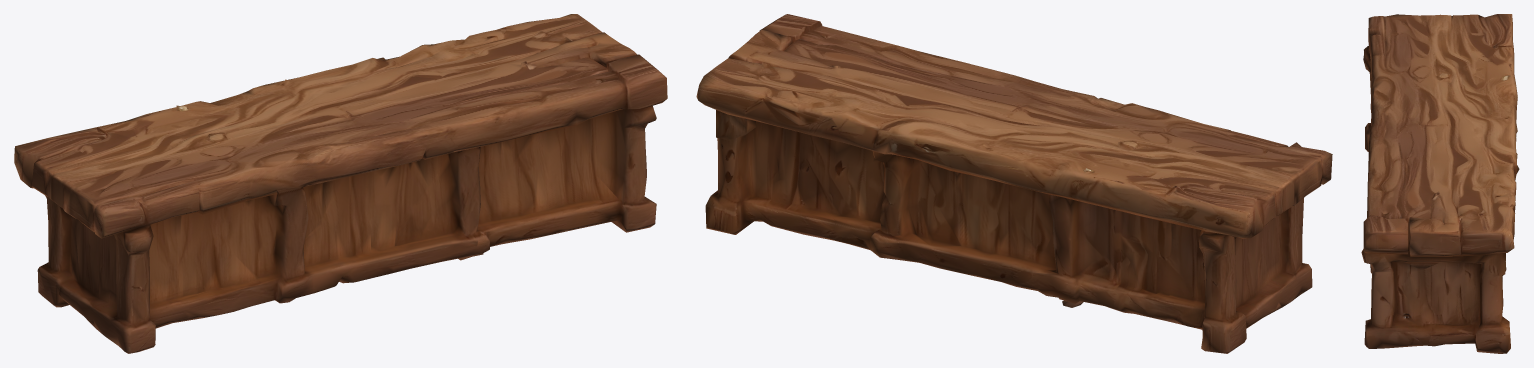
Rendered from counter.glb.
The picture shows the model from 3 angles, left to right: view 1: azimuth 30°, elevation 25°; view 2: azimuth 150°, elevation 25°; view 3: azimuth 270°, elevation 25°; orthographic projection. The views are drawn at different scales.
Parts seen in each view (by area): view 1: tripo_node_c3ee221a-47b0-489e-ab68-5fa86e6896a7; view 2: tripo_node_c3ee221a-47b0-489e-ab68-5fa86e6896a7; view 3: tripo_node_c3ee221a-47b0-489e-ab68-5fa86e6896a7.
Boxes of the visible parts, bbox=[...] form: tripo_node_c3ee221a-47b0-489e-ab68-5fa86e6896a7: bbox=[14, 14, 667, 353]; tripo_node_c3ee221a-47b0-489e-ab68-5fa86e6896a7: bbox=[696, 14, 1332, 353]; tripo_node_c3ee221a-47b0-489e-ab68-5fa86e6896a7: bbox=[1361, 14, 1519, 353].
Size of the model in its own units: 1 by 0.2676 by 0.3026.
1 material, 1 textured.
